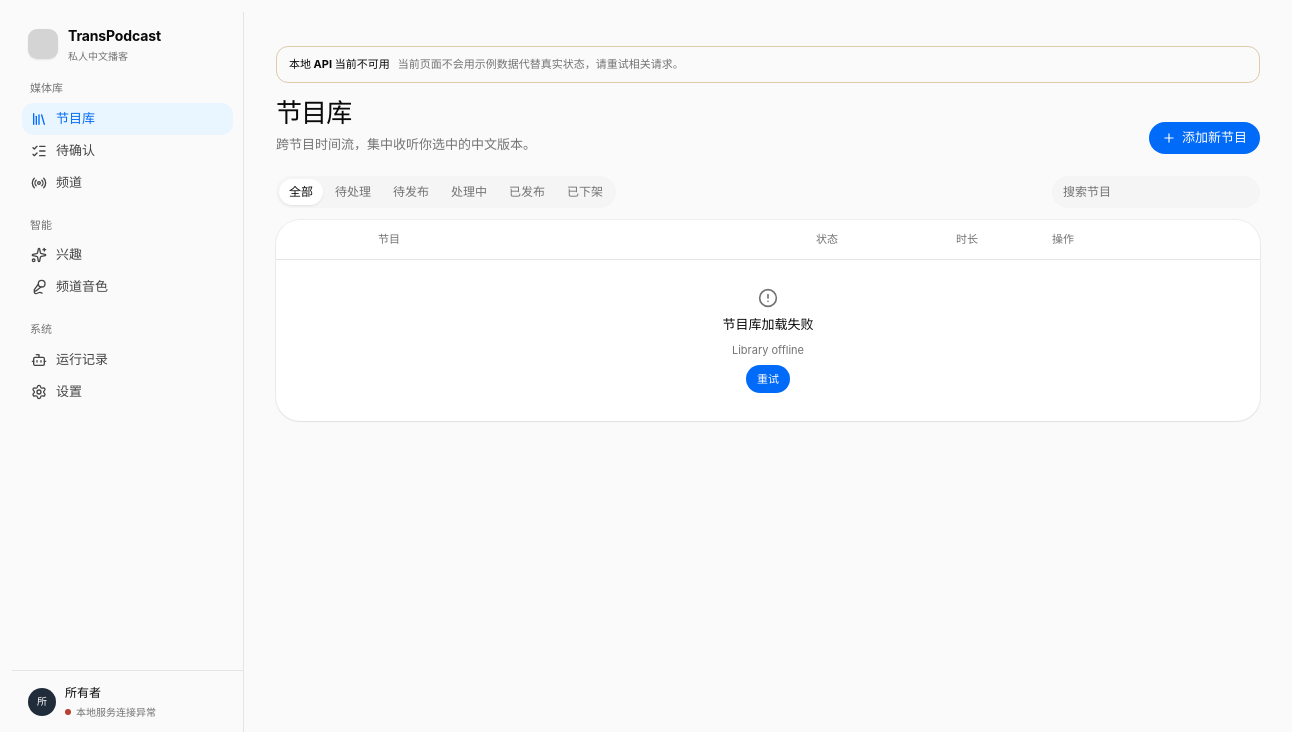
Test: TransPodcast Host navigation › shows a truthful Episode Library error and recovers without sample rows
Expected: the text "节目库加载失败" is shown, [722,315,814,335]
Click the button "重试" at (768,379), box [746,365,790,393]
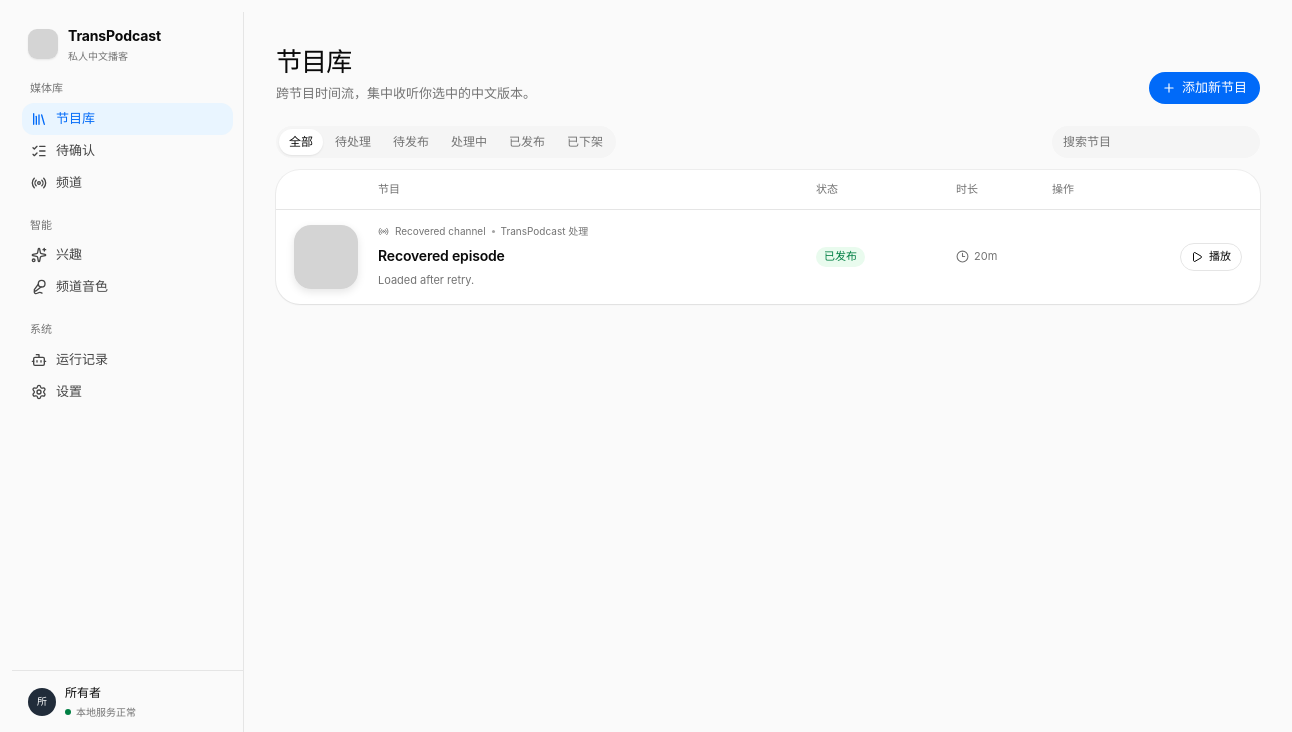
Expected: the button "Recovered episode" is shown, [378,245,505,266]
Expected: the element "Recovered episode" is shown, [276,210,1260,304]
Expected: the text "已发布" is shown, [816,247,865,267]
